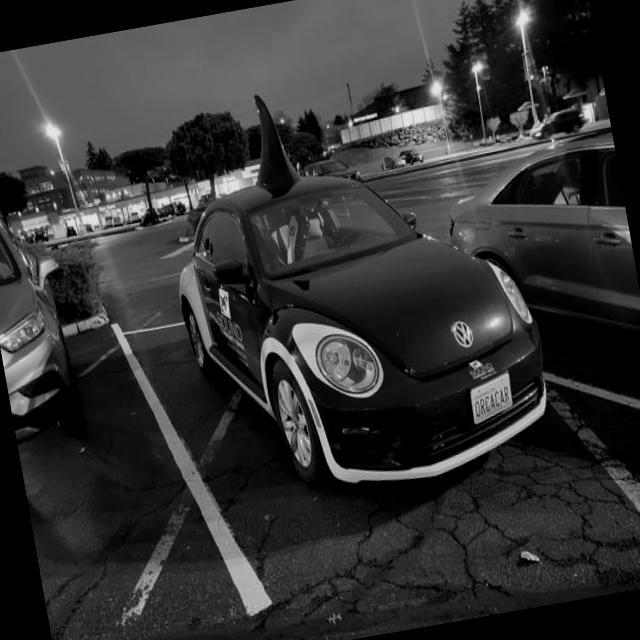LicensePlate: (469, 369, 513, 425)
